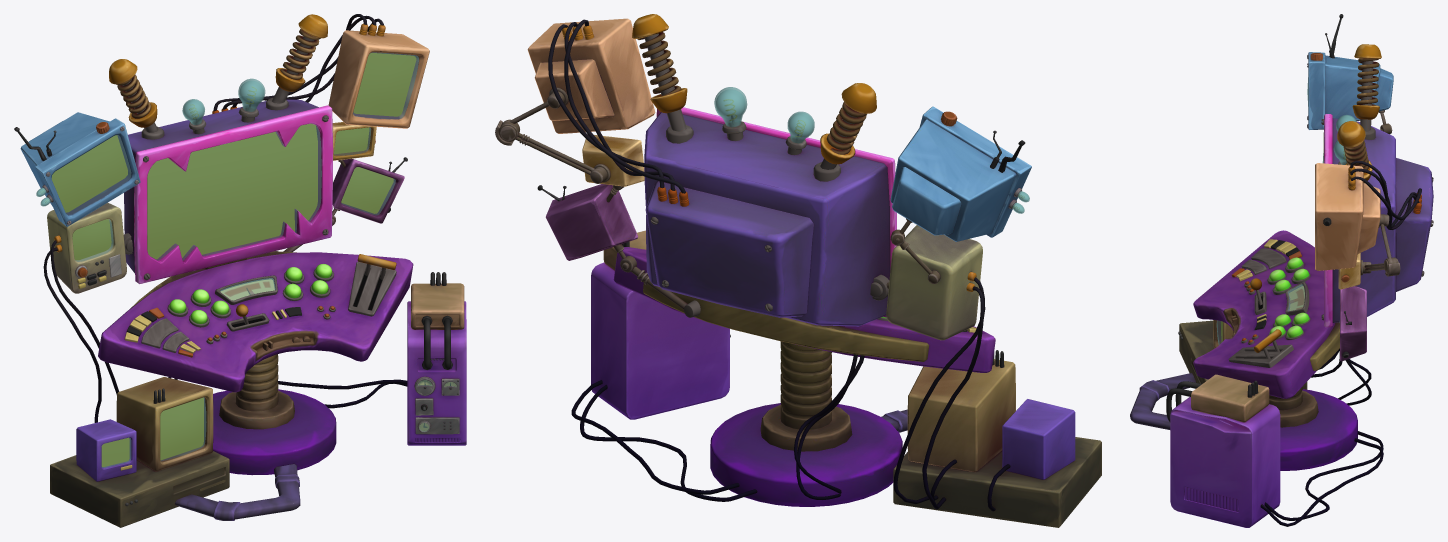
The model's file is MainConsole.fbx.
3 views of the same model, side by side, from view 1: azimuth 30°, elevation 25°; view 2: azimuth 150°, elevation 25°; view 3: azimuth 270°, elevation 25° (orthographic). The views are drawn at different scales.
Parts seen in each view (by area): view 1: console_table, monitor (×6), main_monitor_glass, main_monitor_background, glass_screen (×6), screen_background (×6), main_monitor_frame, main_monitor, VCR, PC_tower, control_pad_chasis, PC_HDD (+9 smaller); view 2: main_monitor, monitor (×6), console_table, PC_tower, VCR, control_pad_chasis, main_monitor_frame, cable4, cable, cable7, cable1, cable5 (+7 smaller); view 3: console_table, monitor (×5), PC_tower, main_monitor, PC_HDD, flat_cable, VCR, main_monitor_frame, cable4, cable5, panel5, cable7 (+3 smaller).
Part boxes in pixels (x1=…): console_table: x1=98, y1=251, x2=413, y2=475; monitor (×6): x1=20, y1=23, x2=429, y2=481; main_monitor_glass: x1=147, y1=123, x2=321, y2=260; main_monitor_background: x1=147, y1=123, x2=317, y2=259; glass_screen (×6): x1=51, y1=52, x2=418, y2=468; screen_background (×6): x1=51, y1=53, x2=416, y2=466; main_monitor_frame: x1=134, y1=105, x2=333, y2=284; main_monitor: x1=109, y1=14, x2=327, y2=273; VCR: x1=50, y1=451, x2=229, y2=527; PC_tower: x1=407, y1=301, x2=466, y2=445; control_pad_chasis: x1=47, y1=202, x2=126, y2=293; PC_HDD: x1=411, y1=283, x2=464, y2=369; main_monitor: x1=632, y1=14, x2=890, y2=326; monitor (×6): x1=527, y1=18, x2=1075, y2=479; console_table: x1=613, y1=247, x2=995, y2=506; PC_tower: x1=591, y1=262, x2=730, y2=419; VCR: x1=893, y1=437, x2=1101, y2=527; control_pad_chasis: x1=886, y1=225, x2=982, y2=340; main_monitor_frame: x1=656, y1=107, x2=896, y2=317; cable4: x1=580, y1=385, x2=757, y2=501; cable: x1=922, y1=286, x2=984, y2=509; cable7: x1=564, y1=19, x2=685, y2=193; cable1: x1=893, y1=277, x2=985, y2=504; cable5: x1=571, y1=380, x2=739, y2=494; console_table: x1=1193, y1=230, x2=1357, y2=470; monitor (×5): x1=1213, y1=52, x2=1393, y2=361; PC_tower: x1=1170, y1=397, x2=1280, y2=527; main_monitor: x1=1332, y1=44, x2=1433, y2=322; PC_HDD: x1=1166, y1=374, x2=1269, y2=422; flat_cable: x1=1130, y1=373, x2=1195, y2=429; VCR: x1=1178, y1=320, x2=1307, y2=389; main_monitor_frame: x1=1321, y1=114, x2=1332, y2=327; cable4: x1=1264, y1=431, x2=1383, y2=520; cable5: x1=1260, y1=438, x2=1383, y2=526; panel5: x1=1251, y1=248, x2=1286, y2=268; cable7: x1=1350, y1=160, x2=1421, y2=220.
Size of the model in its own units: 262 by 231 by 176.
4 materials, 2 textured.
